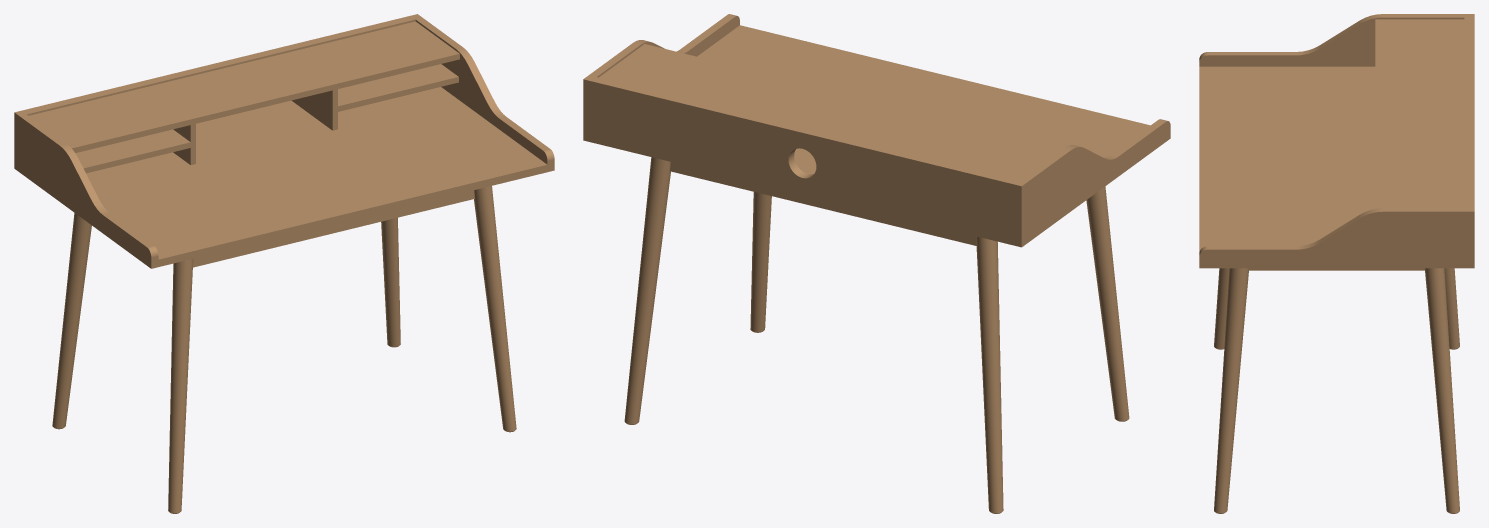
Rendered from 349_デスク.glb.
The picture shows the model from 3 angles, left to right: view 1: azimuth 30°, elevation 25°; view 2: azimuth 150°, elevation 25°; view 3: azimuth 270°, elevation 25°; orthographic projection. The views are drawn at different scales.
Visible parts, largest first — view 1: Body1; view 2: Body1; view 3: Body1.
Part boxes in pixels (x1,y1,x2,y2): Body1: (14, 14, 554, 513); Body1: (583, 14, 1170, 513); Body1: (1199, 14, 1474, 513).
Bounding box in the file's own units: 1.13 × 0.84 × 0.6621.
